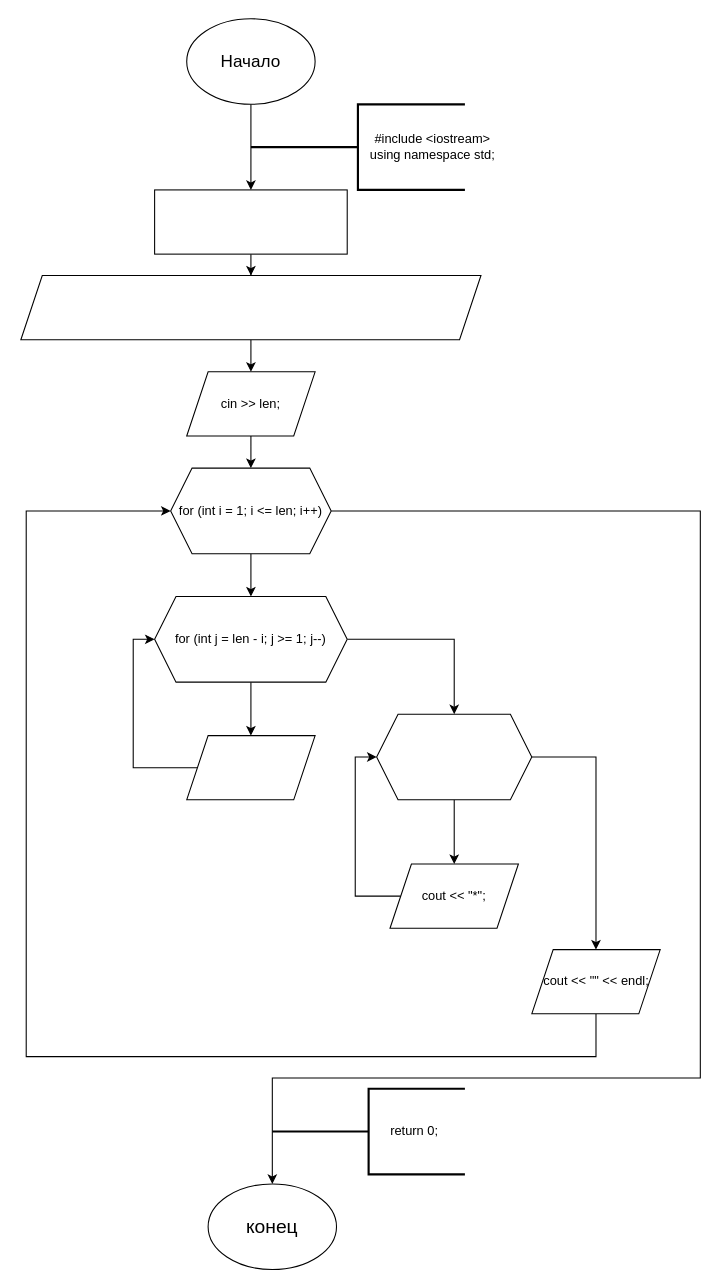
Some shapes in this 728 by 1288 pixel diagram are drawn without their labels. Each missing label, with the box of its shape:
cout << " ";: (186, 735, 315, 800)
cout << "введите длинну катета" << endl;: (20, 274, 481, 340)
for (int k = i; k >= 1; k--): (376, 713, 532, 800)
int len, height,p; setlocale(LC_CTYPE, "rus");: (154, 189, 347, 254)
